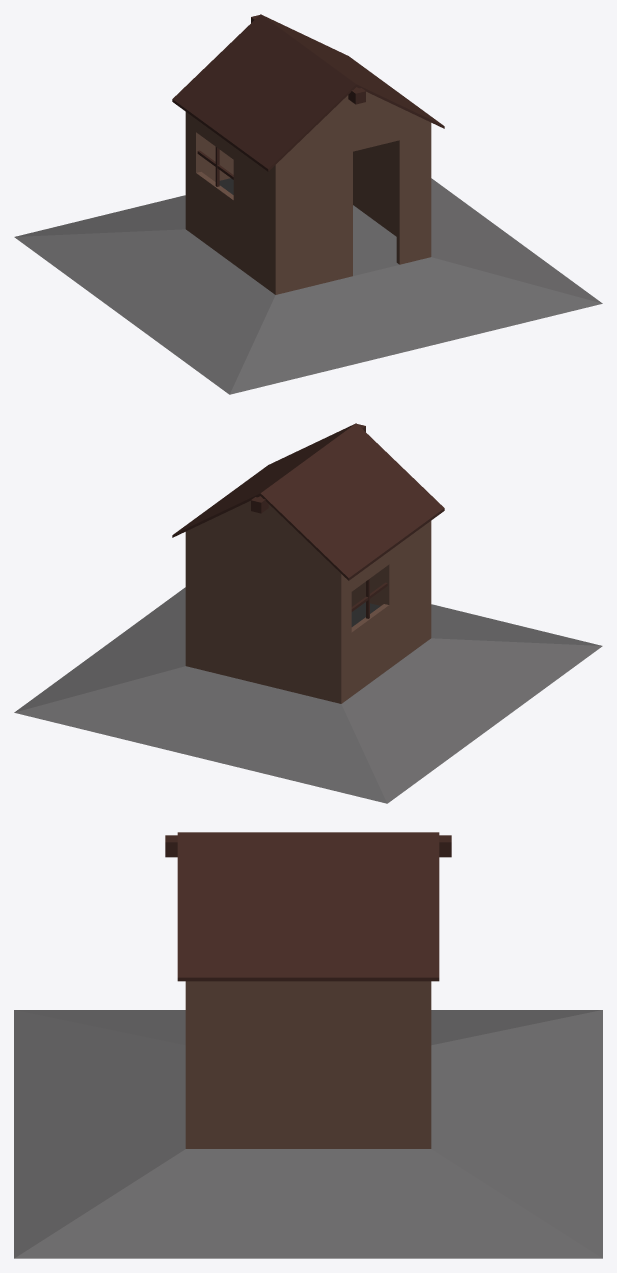
File: shed.glb
3 views of the same model, one above another, from view 1: azimuth 30°, elevation 25°; view 2: azimuth 150°, elevation 25°; view 3: azimuth 270°, elevation 25° (orthographic). The views are drawn at different scales.
Visible parts, largest first — view 1: Cube, Cube.001, Cube.005, Cube.003, Cube.004; view 2: Cube, Cube.001, Cube.005, Cube.003; view 3: Cube, Cube.005, Cube.004, Cube.001, Cube.002.
Boxes of the visible parts, x1,y1,x2,y2 form: Cube: (14, 178, 602, 394); Cube.001: (185, 91, 431, 294); Cube.005: (172, 14, 444, 171); Cube.003: (188, 114, 272, 292); Cube.004: (353, 141, 396, 236); Cube: (14, 587, 602, 803); Cube.001: (185, 500, 431, 703); Cube.005: (172, 423, 444, 580); Cube.003: (344, 523, 428, 701); Cube: (14, 1010, 602, 1258); Cube.005: (177, 832, 439, 981); Cube.004: (194, 981, 422, 1148); Cube.001: (185, 981, 431, 1148); Cube.002: (165, 835, 451, 857).
Bounding box in the file's own units: 7.2 × 4.07 × 7.2.
